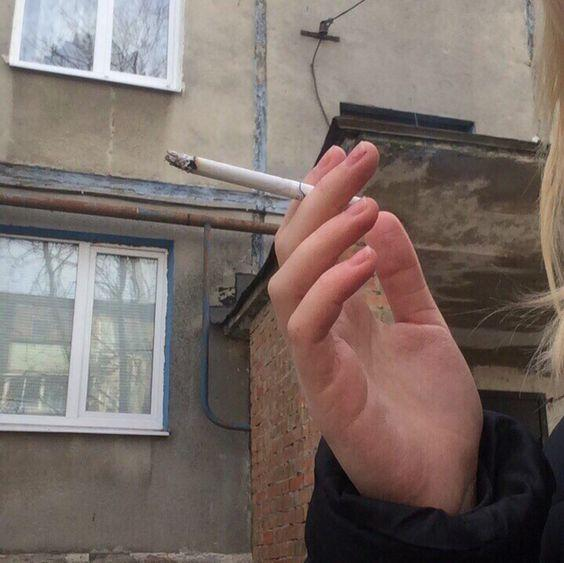cigarette: (164, 149, 362, 215)
